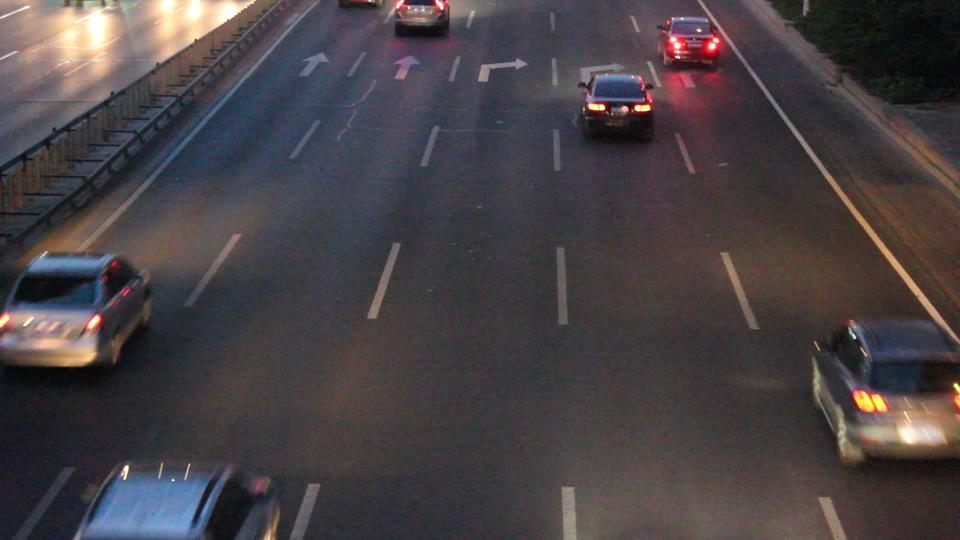Car: (808, 322, 960, 457), (1, 250, 148, 368), (581, 73, 651, 133), (658, 18, 718, 66), (394, 1, 449, 31)
